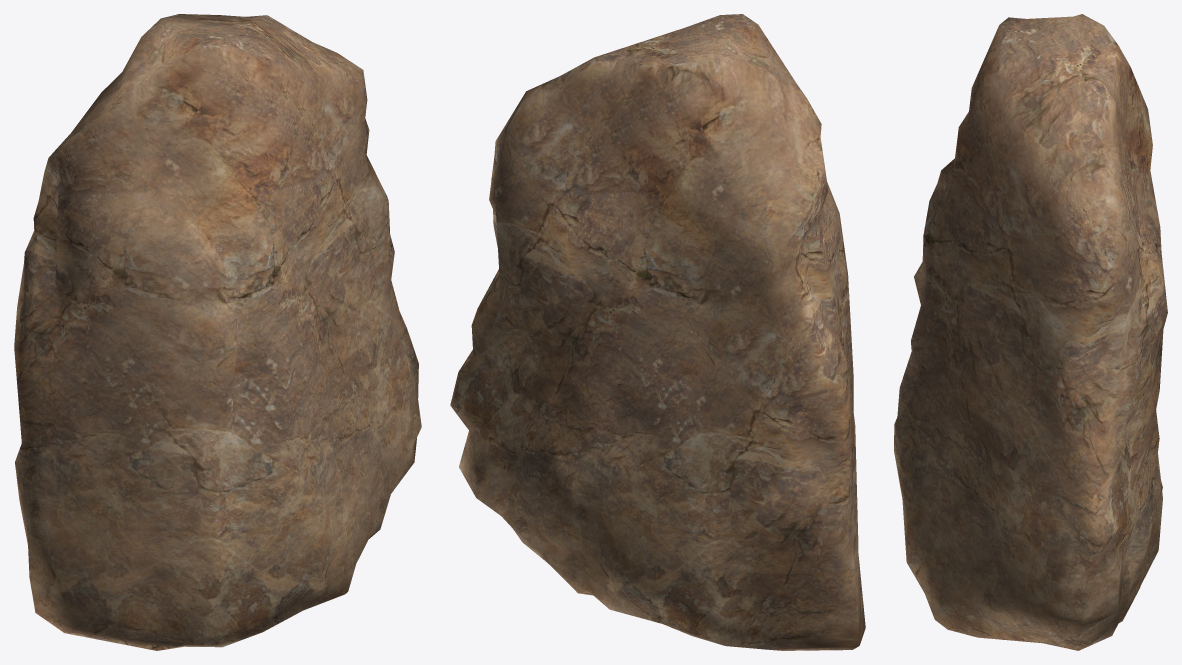
The model's file is Rock_5.glb.
3 renders of one model, left to right at view 1: azimuth 30°, elevation 25°; view 2: azimuth 150°, elevation 25°; view 3: azimuth 270°, elevation 25°, orthographic. The views are drawn at different scales.
Parts seen in each view (by area): view 1: Rock_5; view 2: Rock_5; view 3: Rock_5.
Part boxes in pixels (x1=…): Rock_5: x1=14, y1=14, x2=421, y2=650; Rock_5: x1=450, y1=14, x2=865, y2=650; Rock_5: x1=894, y1=14, x2=1167, y2=650.
Size of the model in its own units: 4.83 by 6.75 by 2.87.
Materials: 1 (1 with a texture image).
